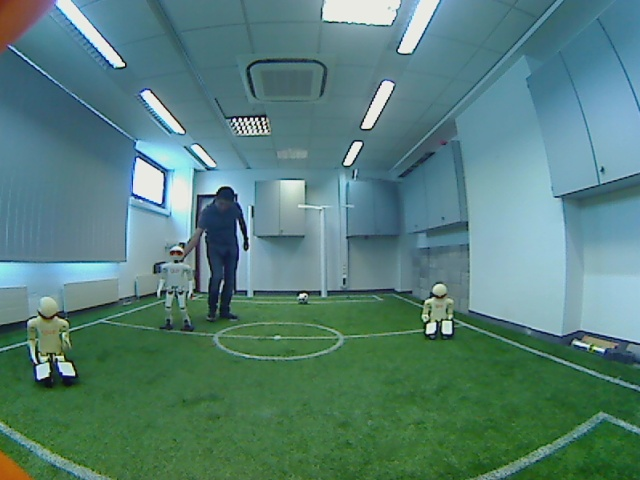ball: (293, 289, 315, 309)
robot: (19, 291, 88, 387), (153, 241, 201, 338), (413, 281, 461, 347)
